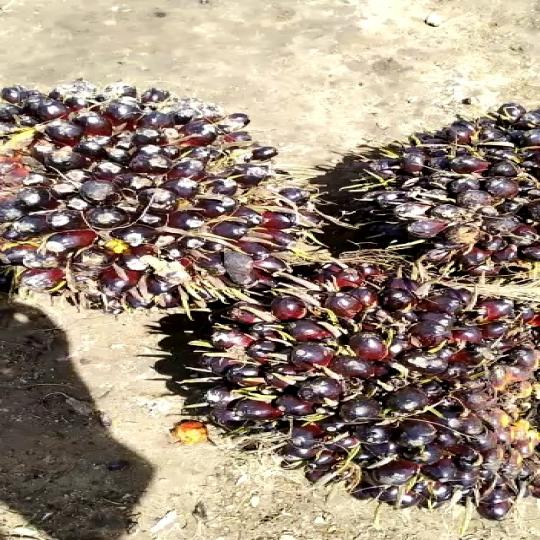mentah: (166, 258, 540, 512), (0, 71, 344, 332), (338, 103, 540, 307)
